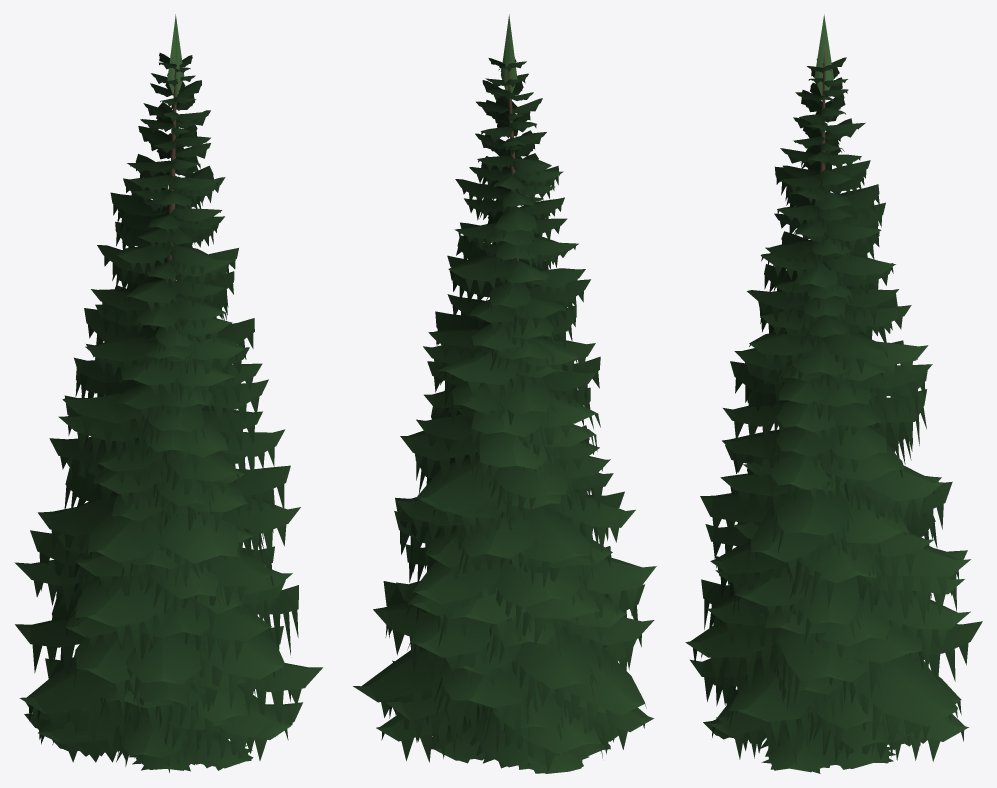
The model's file is spruce_c.glb.
The picture shows the model from 3 angles, left to right: view 1: azimuth 30°, elevation 25°; view 2: azimuth 150°, elevation 25°; view 3: azimuth 270°, elevation 25°; orthographic projection.
Visible parts, largest first — view 1: LOD0; view 2: LOD0; view 3: LOD0.
Boxes of the visible parts, x1,y1,x2,y2 form: LOD0: [14, 14, 322, 772]; LOD0: [353, 14, 656, 773]; LOD0: [685, 14, 982, 773].
Size of what is drawn, in the model's own units: 5.78 by 14.86 by 5.49.
